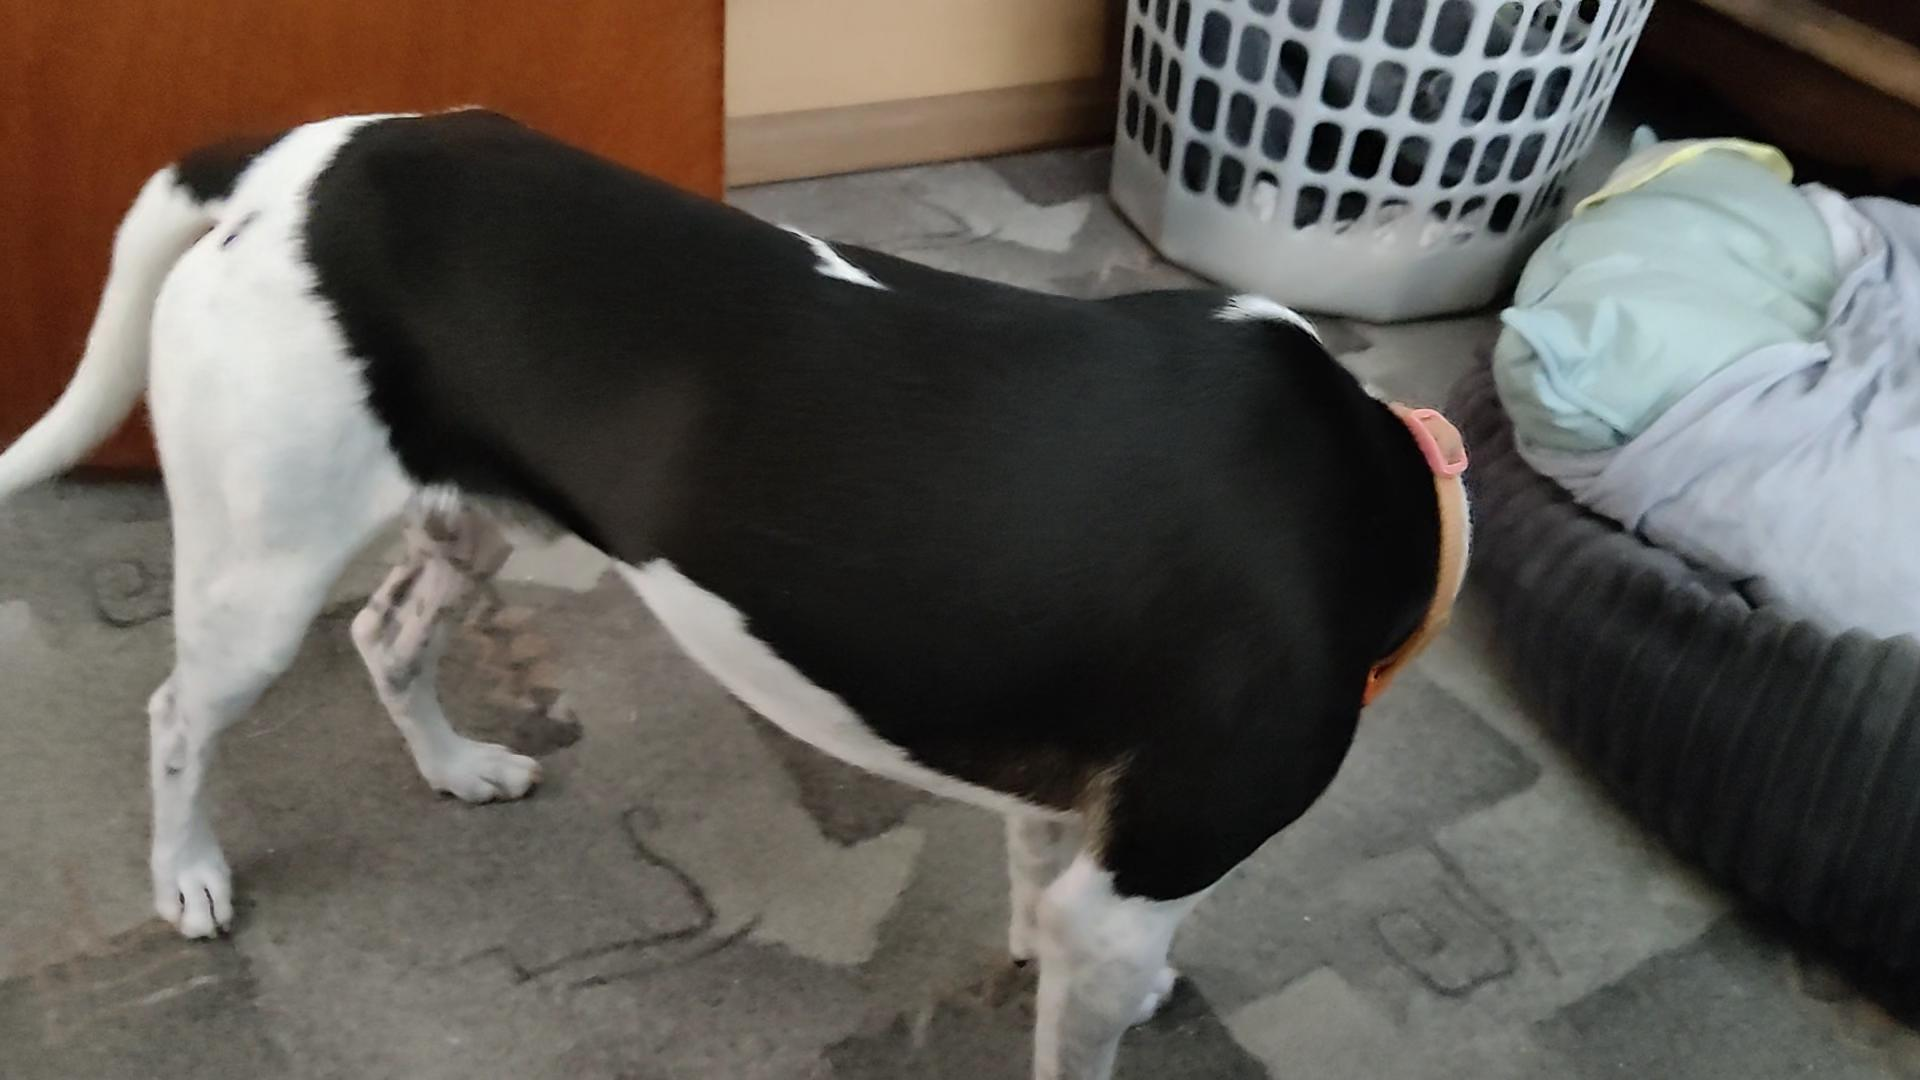Dog: (0, 94, 1480, 1079)
